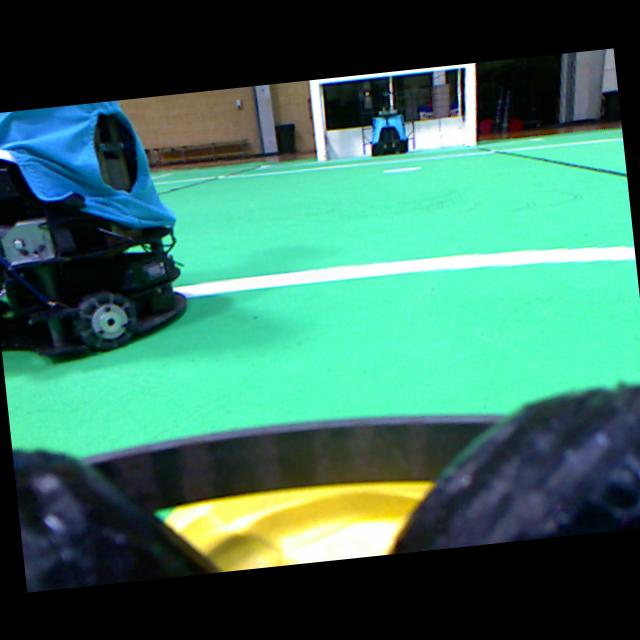ball: (164, 481, 432, 570)
goal: (308, 79, 326, 160), (463, 62, 476, 145)
